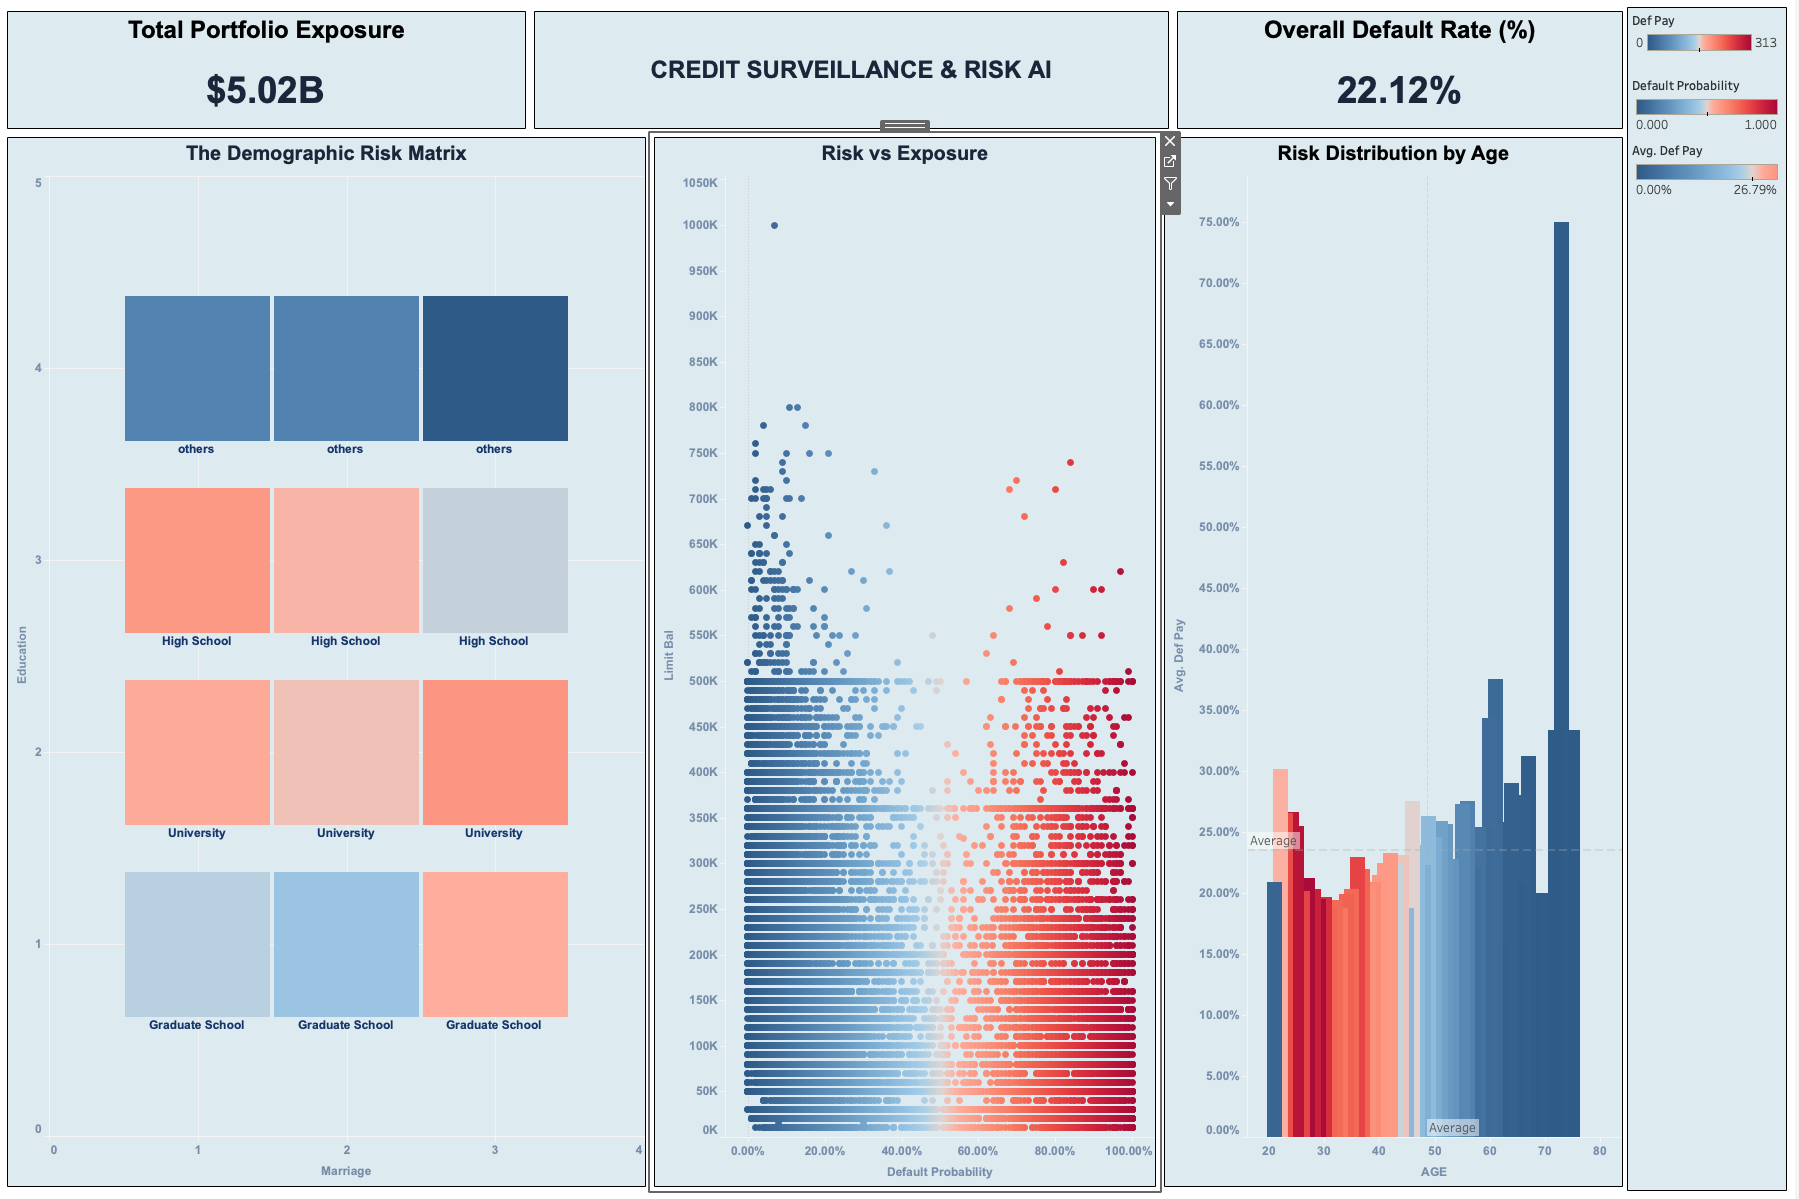

What the dashboard file says about the page in this screenshot:
{"tool":"tableau","page":{"name":"Credit Surveillance","canvas":[1000,1000],"units":"permille","ordinal":0},"visuals":[{"type":"worksheet","title":"KPI - Total Exposure.","mark":"Automatic","box":[4.4,6.7,292.8,105]},{"type":"text","box":[297.2,6.7,357.2,105]},{"type":"worksheet","title":"KPI - Default Rate.","mark":"Automatic","box":[654.5,6.7,252.2,105]},{"type":"legend","title":"Risk by Age","param":"[federated.19o4k6d0xfxazs15hbexa0zoof00].[sum:DEF_PAY:qk]","box":[907.2,7.5,87.8,54.2]},{"type":"legend","title":"Risk vs Exposure","param":"[federated.19o4k6d0xfxazs15hbexa0zoof00].[none:Default_Probability:qk]","box":[907.2,61.7,87.8,54.2]},{"type":"worksheet","title":"The Demographic Risk Matrix","mark":"Square","rows":["EDUCATION"],"cols":["MARRIAGE"],"box":[4.4,111.7,359.4,881.7]},{"type":"worksheet","title":"Risk vs Exposure","mark":"Circle","rows":["LIMIT_BAL"],"cols":["Default_Probability"],"box":[363.9,111.7,283.3,881.7]},{"type":"worksheet","title":"Risk by Age","mark":"Bar","rows":["DEF_PAY"],"cols":["AGE"],"box":[647.2,111.7,259.4,881.7]},{"type":"legend","title":"The Demographic Risk Matrix","param":"[federated.19o4k6d0xfxazs15hbexa0zoof00].[avg:DEF_PAY:qk]","box":[907.2,115.8,87.8,54.2]}]}

Visuals, with their boxes on the dashboard's canvas, which has no fixed pixel size, in thousandths of its width and height (x1, y1, x2, y2). These are canvas units, not pixel positions in the 1799x1199 screenshot, which may show the page scaled, cropped or inside an application window:
"KPI - Total Exposure." worksheet: (left=4, top=7, right=297, bottom=112)
text: (left=297, top=7, right=654, bottom=112)
"KPI - Default Rate." worksheet: (left=654, top=7, right=907, bottom=112)
"Risk by Age" legend: (left=907, top=8, right=995, bottom=62)
"Risk vs Exposure" legend: (left=907, top=62, right=995, bottom=116)
"The Demographic Risk Matrix" worksheet (Square marks): (left=4, top=112, right=364, bottom=993)
"Risk vs Exposure" worksheet (Circle marks): (left=364, top=112, right=647, bottom=993)
"Risk by Age" worksheet (Bar marks): (left=647, top=112, right=907, bottom=993)
"The Demographic Risk Matrix" legend: (left=907, top=116, right=995, bottom=170)
